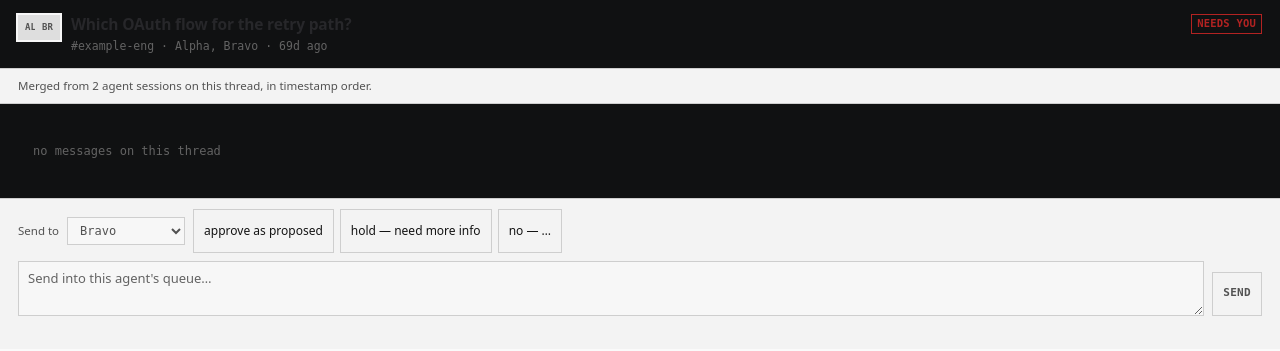
Test: a refused send is explained in the operator’s words › translates the wire code rather than printing it
Type "go" into the text box named "Message text".
click(611, 288); type("go")  # box [18, 261, 1204, 316]
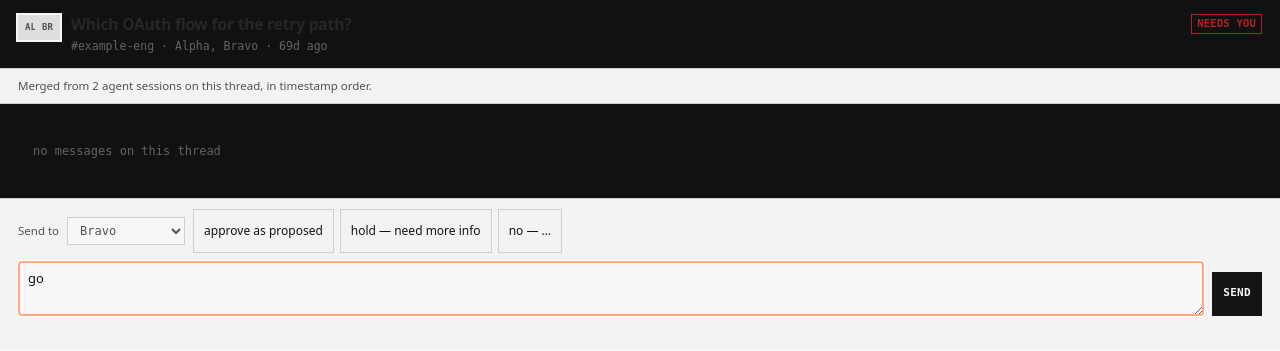
Click the button "send".
click(1237, 294)  # box [1212, 272, 1262, 316]
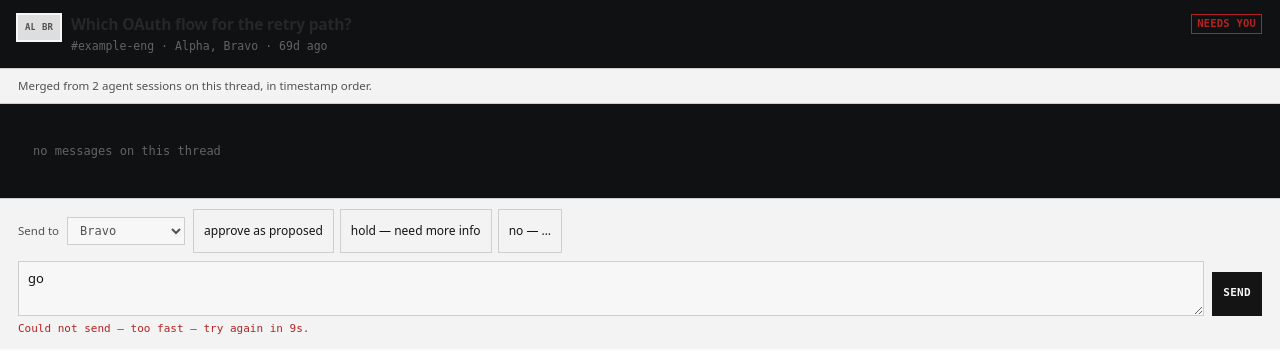
Now the text "Could not send — too fast — try again in 9s." is shown, box [18, 322, 309, 335]
